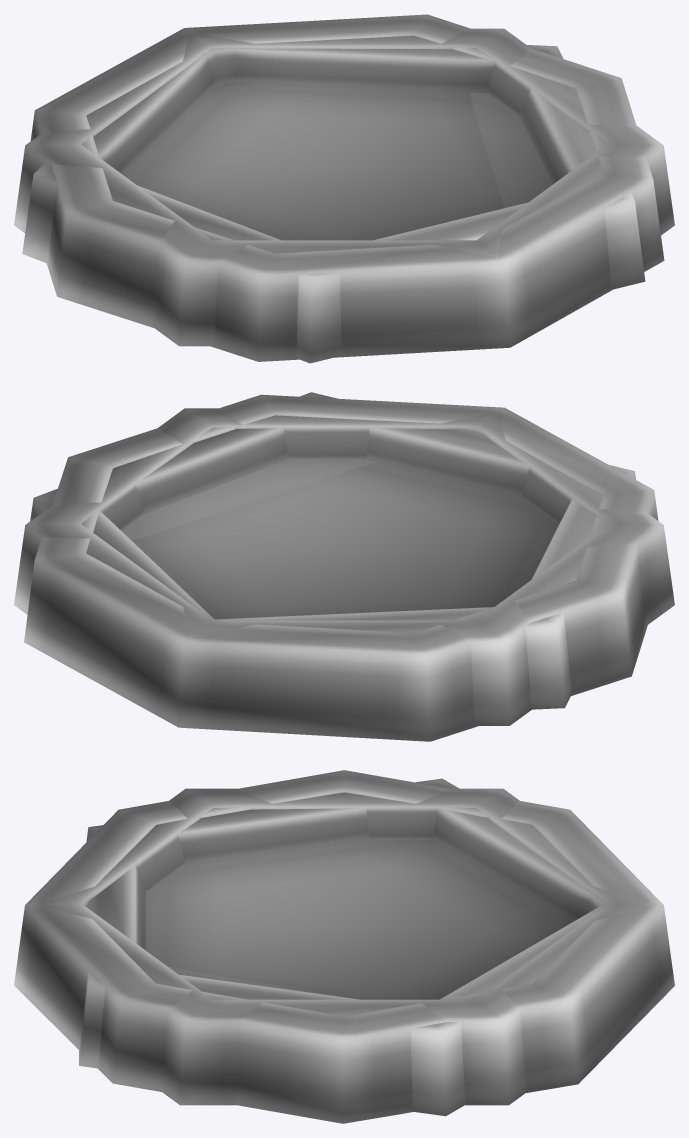
Rendered from mapCoinMarkers.fbx.
3 renders of one model, top to bottom at view 1: azimuth 30°, elevation 25°; view 2: azimuth 150°, elevation 25°; view 3: azimuth 270°, elevation 25°, orthographic.
Visible parts, largest first — view 1: coinMark_pent, coinMark_oct, coinMark_hex; view 2: coinMark_oct, coinMark_pent, coinMark_hex; view 3: coinMark_pent, coinMark_oct, coinMark_hex.
Boxes of the visible parts, box(x1,y1,x2,y2) form: coinMark_pent: box(22, 45, 645, 363); coinMark_oct: box(30, 14, 664, 361); coinMark_hex: box(14, 28, 674, 346); coinMark_oct: box(24, 394, 658, 741); coinMark_pent: box(30, 392, 635, 709); coinMark_hex: box(14, 408, 674, 725); coinMark_pent: box(79, 778, 605, 1116); coinMark_oct: box(14, 770, 674, 1123); coinMark_hex: box(37, 788, 651, 1105).
Bounding box in the file's own units: 13.52 × 1.86 × 13.54.
